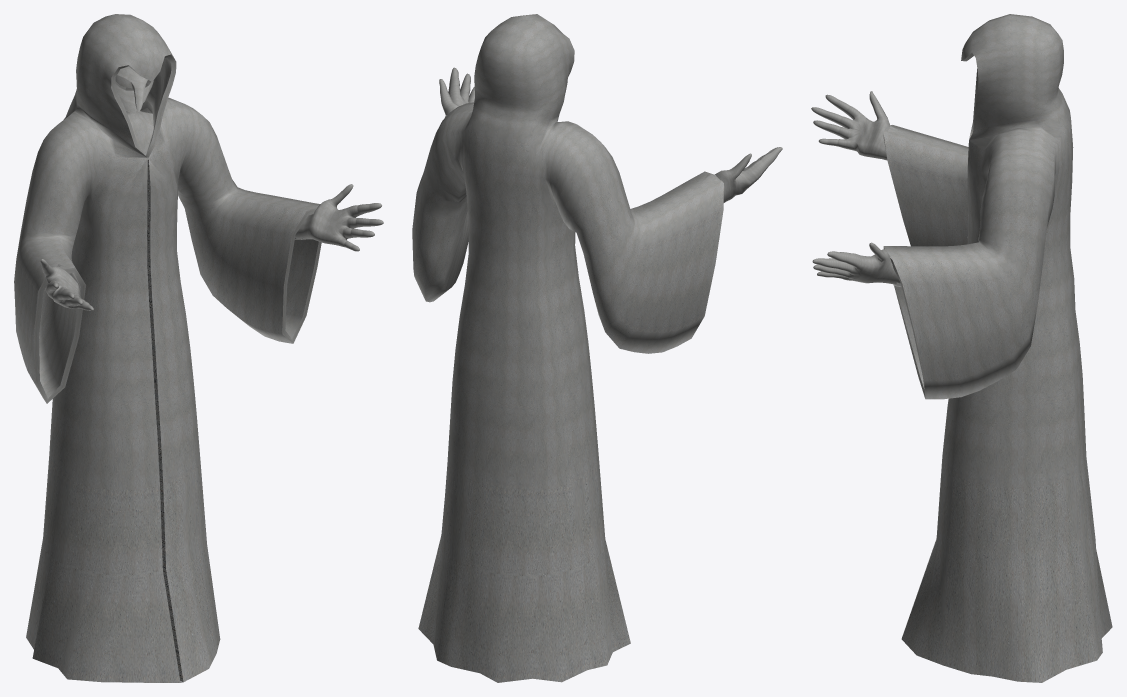
File: nox estatua 1.FBX
3 views of the same model, side by side, from view 1: azimuth 30°, elevation 25°; view 2: azimuth 150°, elevation 25°; view 3: azimuth 270°, elevation 25° (orthographic).
Parts seen in each view (by area): view 1: estatua nox; view 2: estatua nox; view 3: estatua nox.
Boxes of the visible parts, <box> form: estatua nox: <box>14,14,383,682</box>; estatua nox: <box>412,14,782,682</box>; estatua nox: <box>811,14,1112,682</box>.
Bounding box in the file's own units: 1.36 × 2.48 × 1.09.
